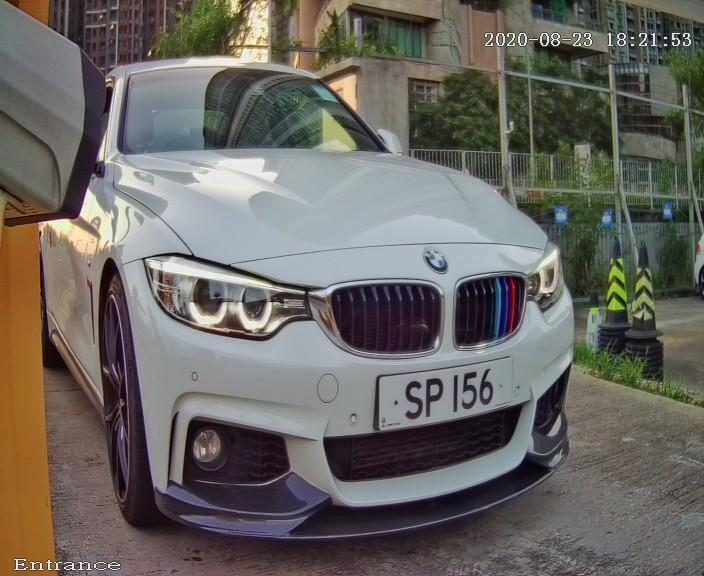Car: (29, 6, 632, 574)
License Plate: (361, 333, 540, 452)
